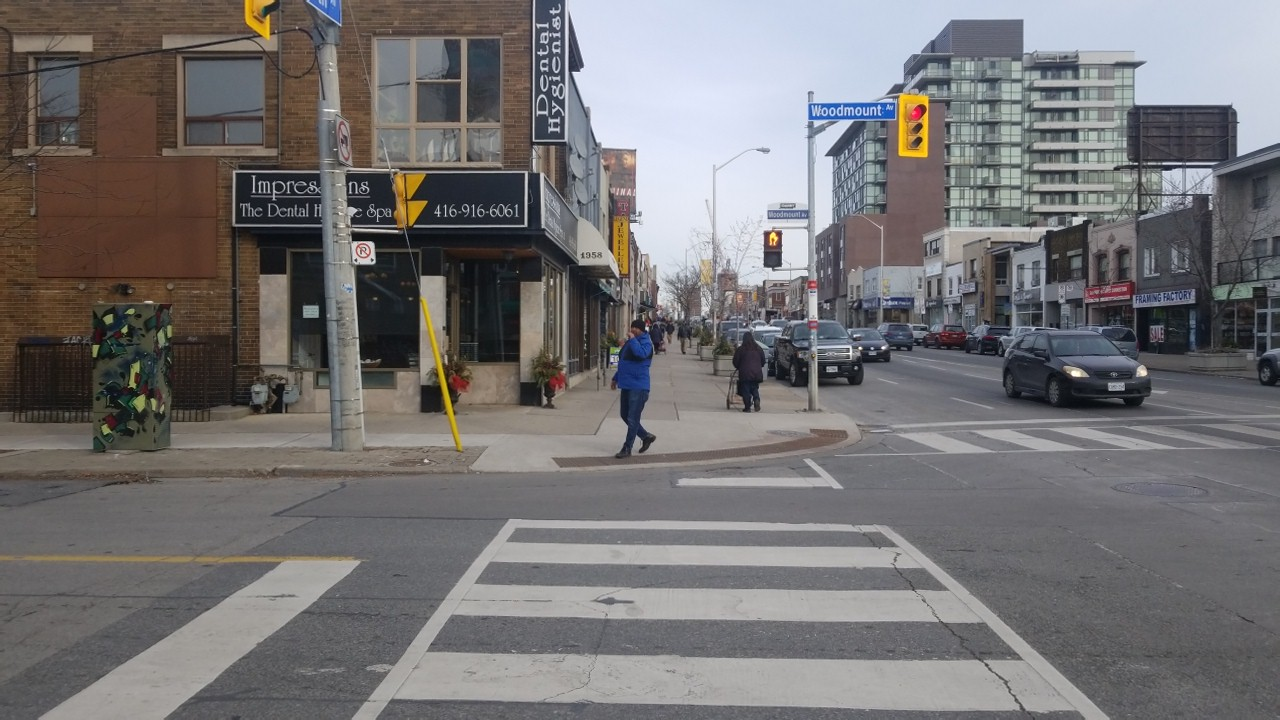light: (760, 227, 784, 269)
